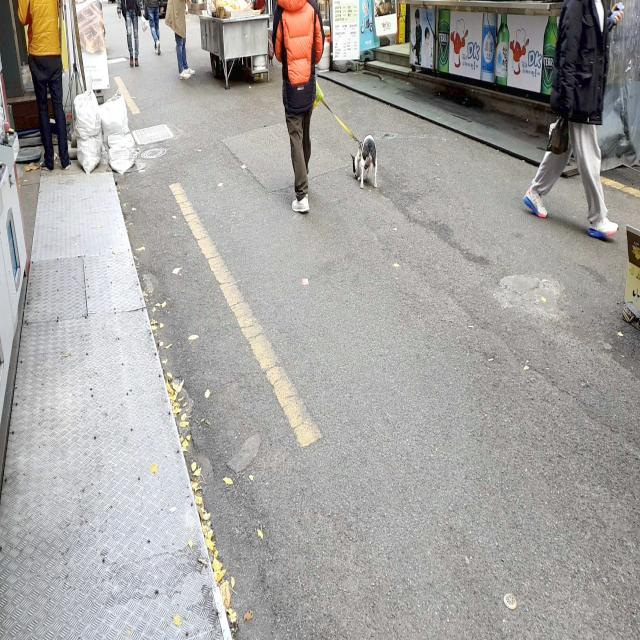Leashed_Dog: (302, 72, 378, 190)
